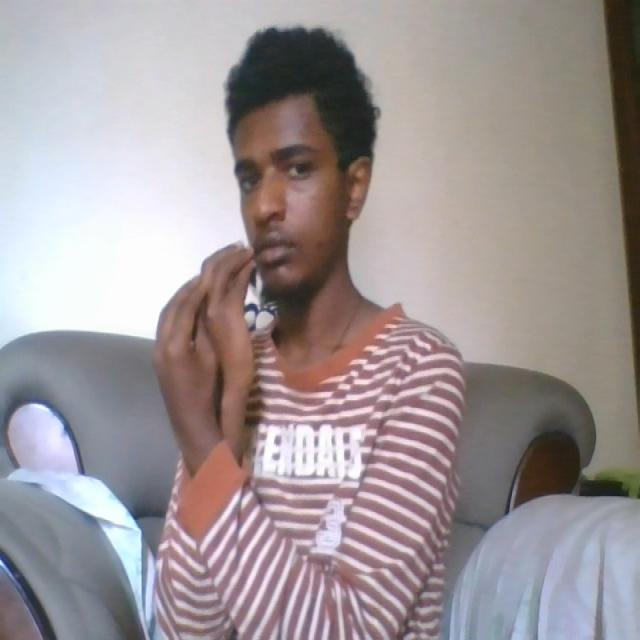migb: (153, 234, 280, 423)
